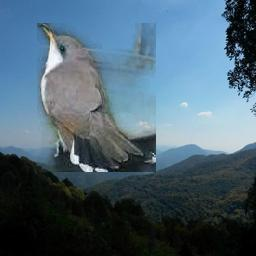Cuckoo: (38, 24, 157, 173)
